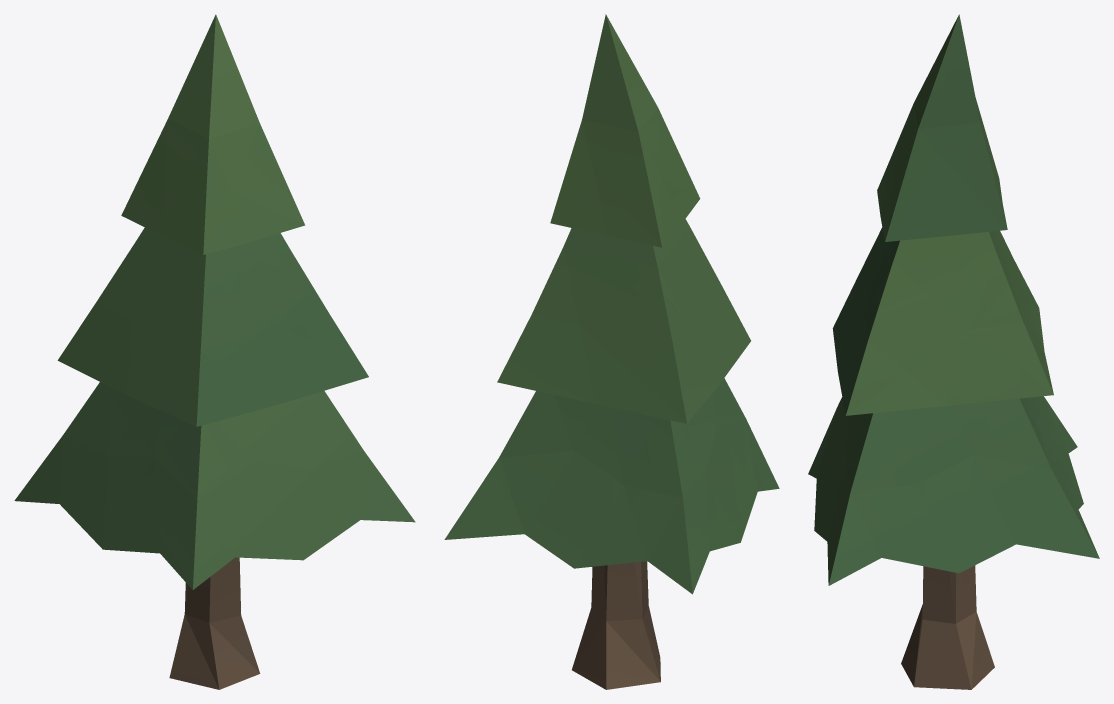
File: tree-spruce.gltf
3 renders of one model, left to right at view 1: azimuth 30°, elevation 25°; view 2: azimuth 150°, elevation 25°; view 3: azimuth 270°, elevation 25°, orthographic. The views are drawn at different scales.
Visible parts, largest first — view 1: tree-spruce; view 2: tree-spruce; view 3: tree-spruce.
Part boxes in pixels (<box>): tree-spruce: <box>14,14,415,689</box>; tree-spruce: <box>444,14,779,689</box>; tree-spruce: <box>808,14,1099,689</box>.
Bounding box in the file's own units: 12.09 × 26.83 × 10.72.
1 material, 1 textured.
